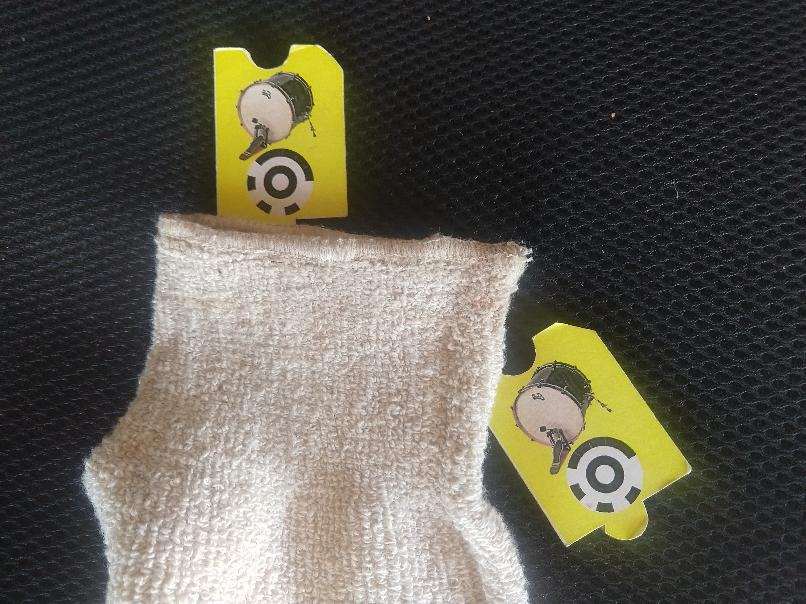bumbo: (468, 315, 694, 557), (212, 38, 348, 241)
